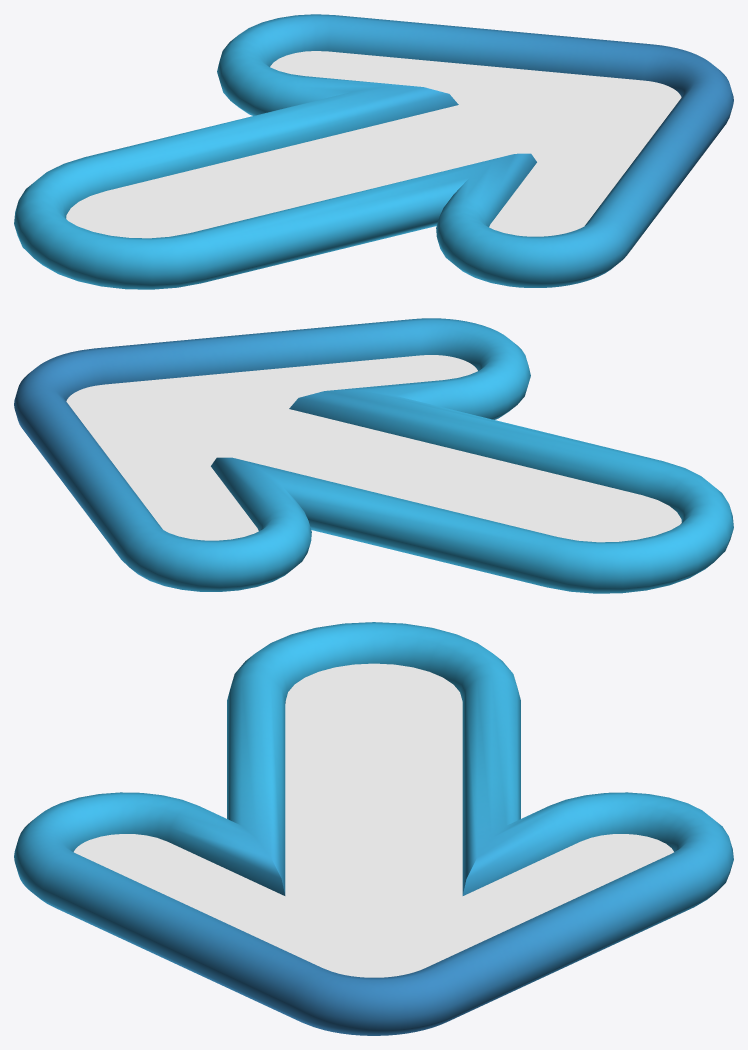
File: tarimArrow1.FBX
3 views of the same model, one above another, from view 1: azimuth 30°, elevation 25°; view 2: azimuth 150°, elevation 25°; view 3: azimuth 270°, elevation 25° (orthographic). The views are drawn at different scales.
Parts seen in each view (by area): view 1: Shape003; view 2: Shape003; view 3: Shape003.
Part boxes in pixels (box(x1,y1,x2,y2)): Shape003: box(14, 14, 733, 289); Shape003: box(14, 318, 733, 593); Shape003: box(14, 622, 733, 1035).
Size of the model in its own units: 9256 by 600 by 7404.
1 material, 1 textured.
